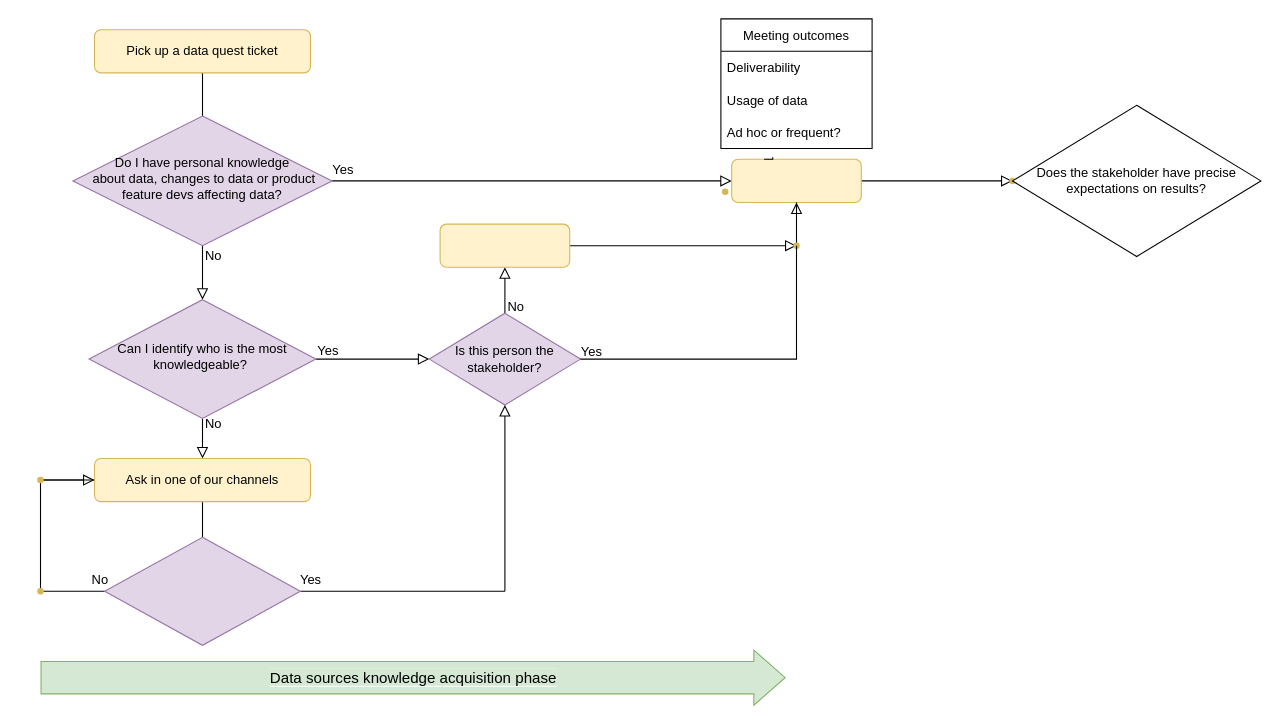
Some shapes in this 1280 by 725 pixel diagram are drawn without their labels. The shapes that lost their labels are listed below. From the top down, each one's box as (x1, y1, x2, y2) in pixels, then its label:
(731, 158, 861, 202): First meeting with stakeholder
(439, 223, 570, 267): First meeting with the most knowledgable
(104, 536, 300, 645): Identified the person?
